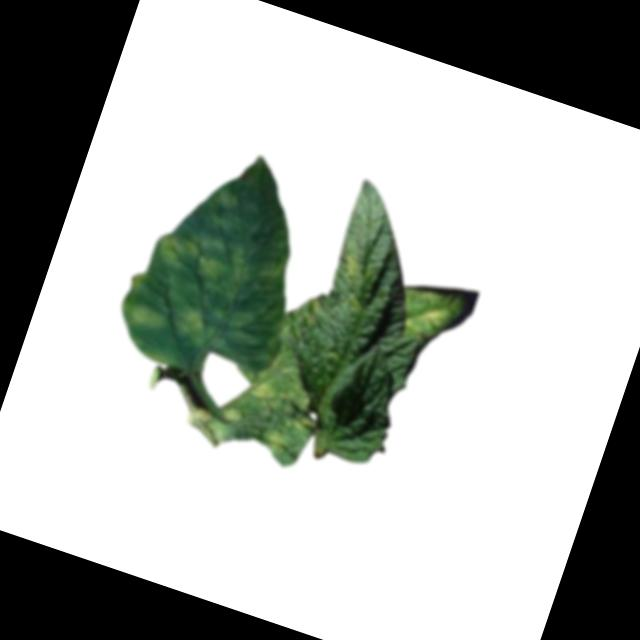Leaf_Mold: (146, 217, 297, 319), (217, 351, 327, 463), (167, 299, 219, 350), (117, 295, 172, 341), (335, 252, 368, 284)
